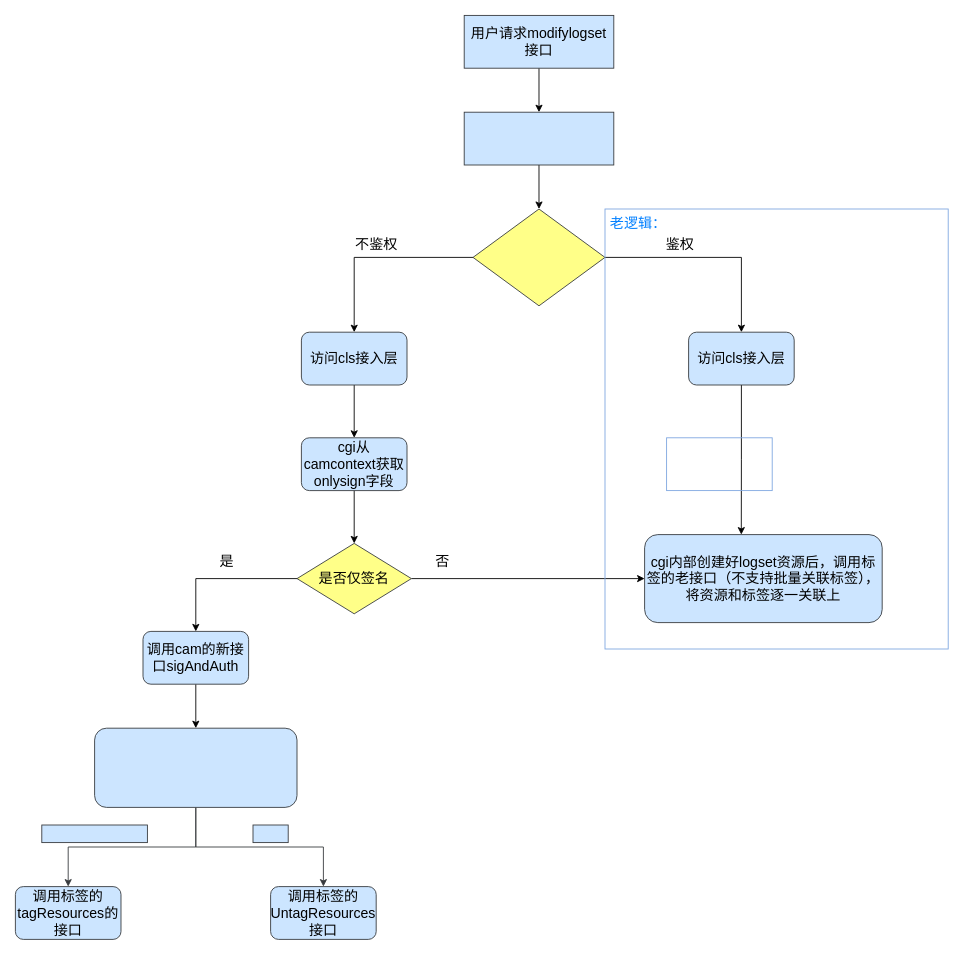
Some shapes in this 964 by 955 pixel diagram are drawn without their labels. The shapes that lost their labels are listed below. From the top down, each one's centre as x and y in pixels, then its label:
(538,138): 访问云api
(538,257): 云api是否鉴权
(195,767): 1: 查找目前资源所关联的标签 2: 和用户请求传入的标签做diff
(94,833): add && update
(270,833): del
